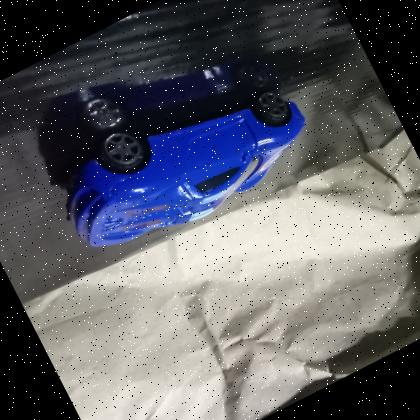Car: (32, 44, 331, 282)
